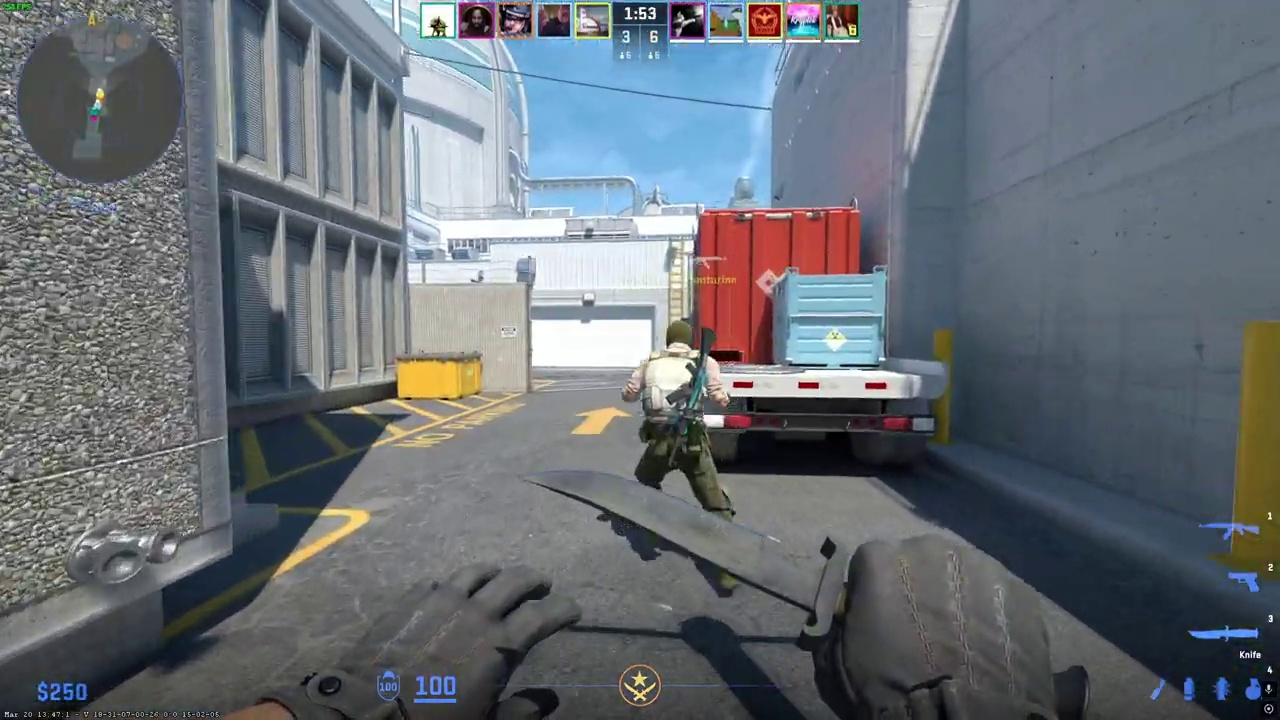Terrorist: (630, 320, 734, 519)
